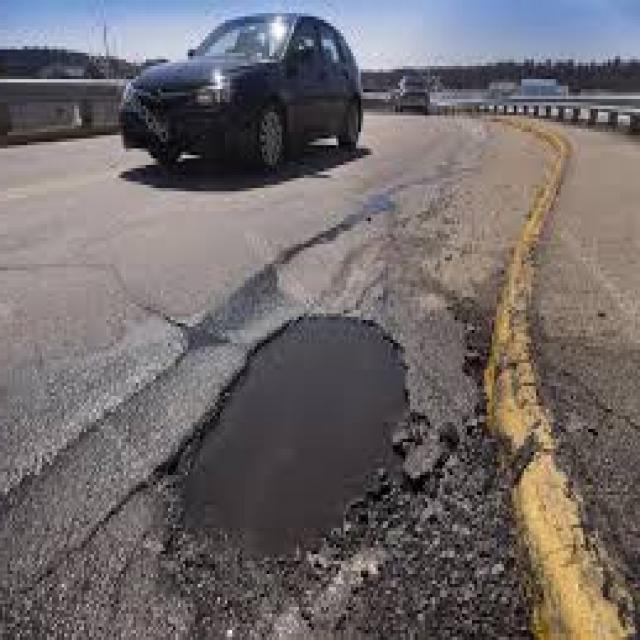pothole: (160, 272, 424, 564)
